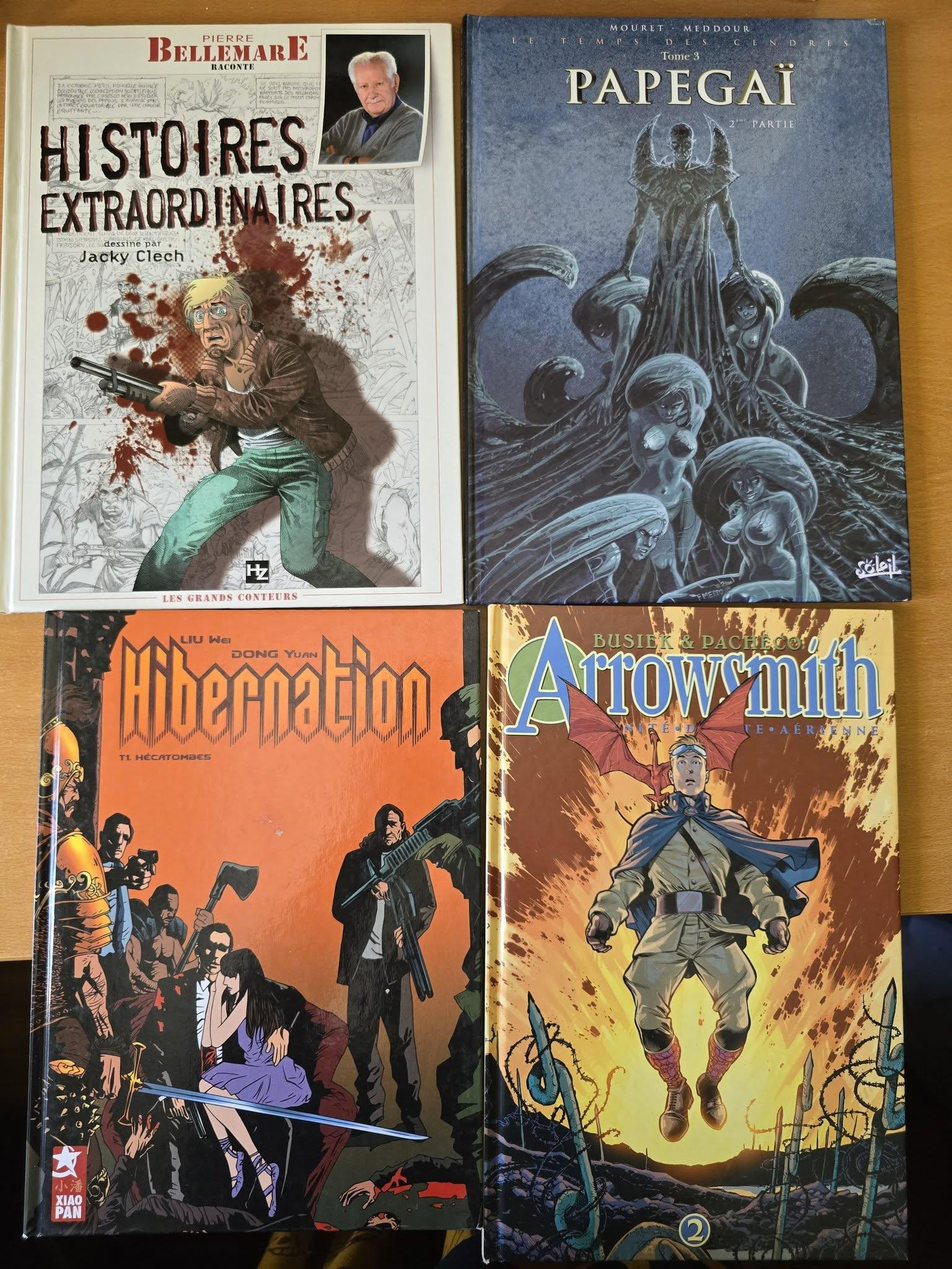comic: (22, 609, 485, 1234), (484, 605, 908, 1263), (0, 21, 461, 610), (465, 15, 909, 604)
